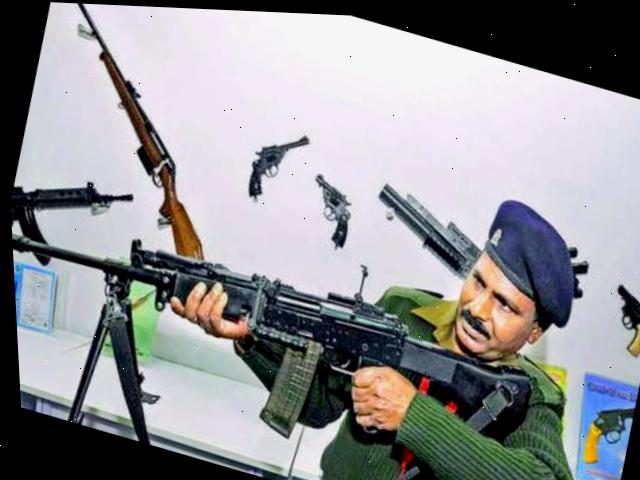rifle: (8, 206, 540, 480), (0, 0, 266, 287), (354, 166, 502, 296), (6, 144, 134, 293)
